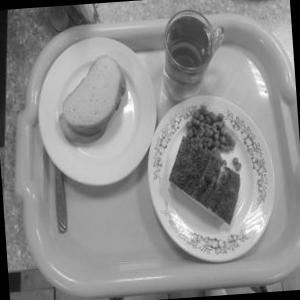bread: (48, 47, 140, 151)
casserole: (160, 102, 259, 234)
tea: (154, 1, 234, 100)
